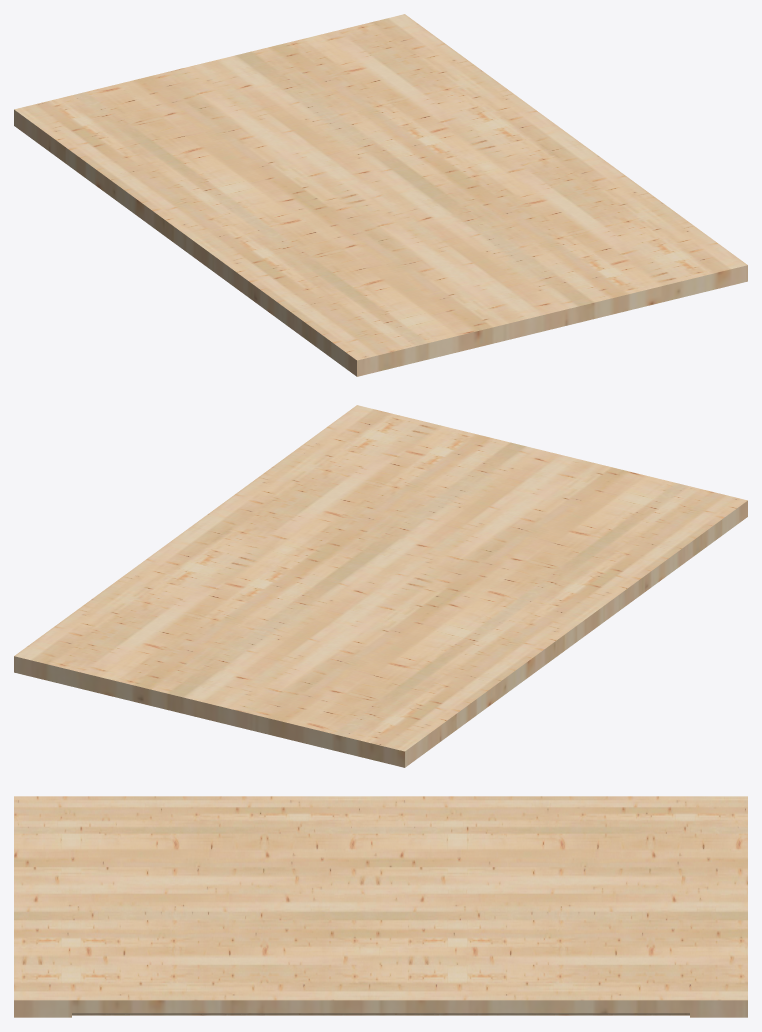
File: BUILDING_OPERABLE_DECK.fbx
3 views of the same model, one above another, from view 1: azimuth 30°, elevation 25°; view 2: azimuth 150°, elevation 25°; view 3: azimuth 270°, elevation 25° (orthographic). The views are drawn at different scales.
Parts seen in each view (by area): view 1: open; view 2: open; view 3: open.
Part boxes in pixels (x1,y1,x2,y2): open: (14,14,747,376); open: (14,405,747,767); open: (14,796,747,1017).
Bounding box in the file's own units: 12.5 × 19 × 0.5.
1 material, 1 textured.
